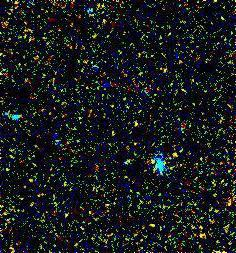star: (160, 141, 190, 171)
